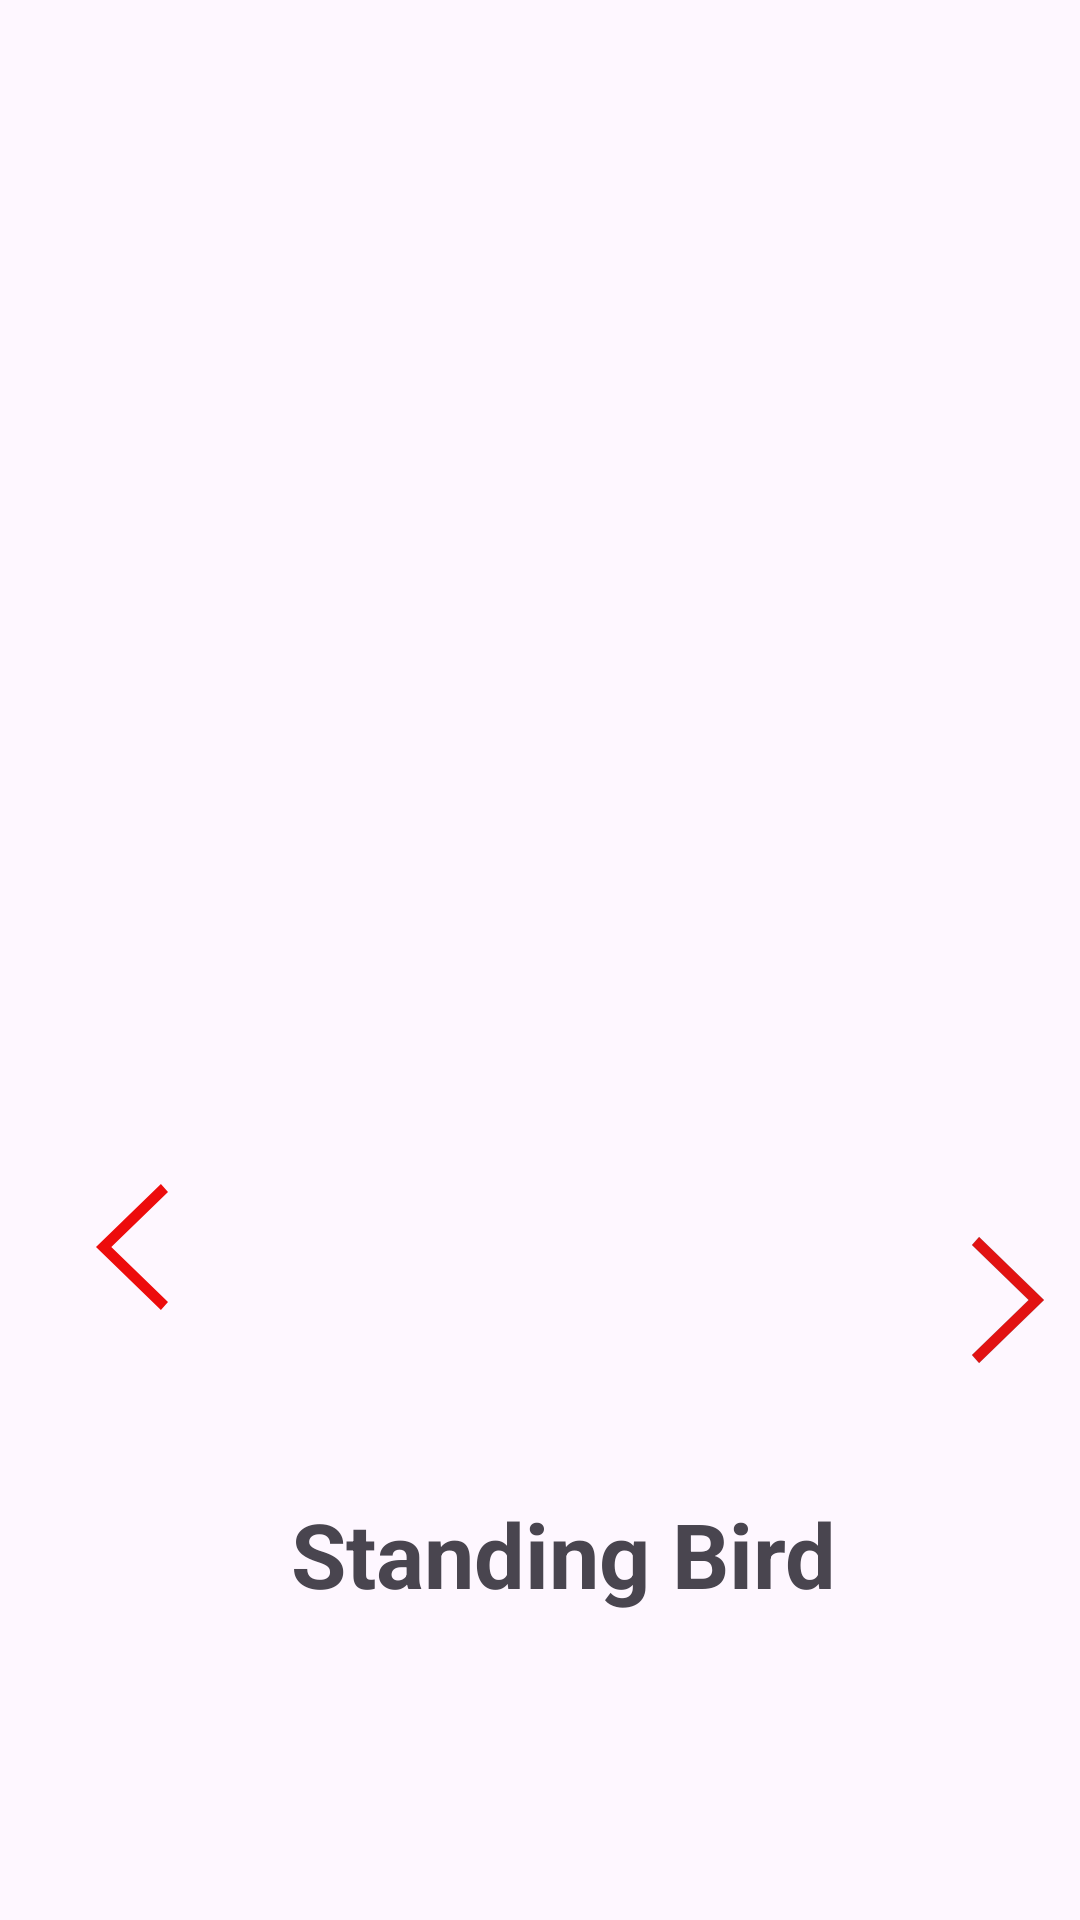

Icon bounding boxes for this 1080w x 1920h phone screenshot, format (x1, y1, x2, y2):
left arrow backup: (96, 1184, 168, 1310)
right arrow: (972, 1237, 1044, 1363)
